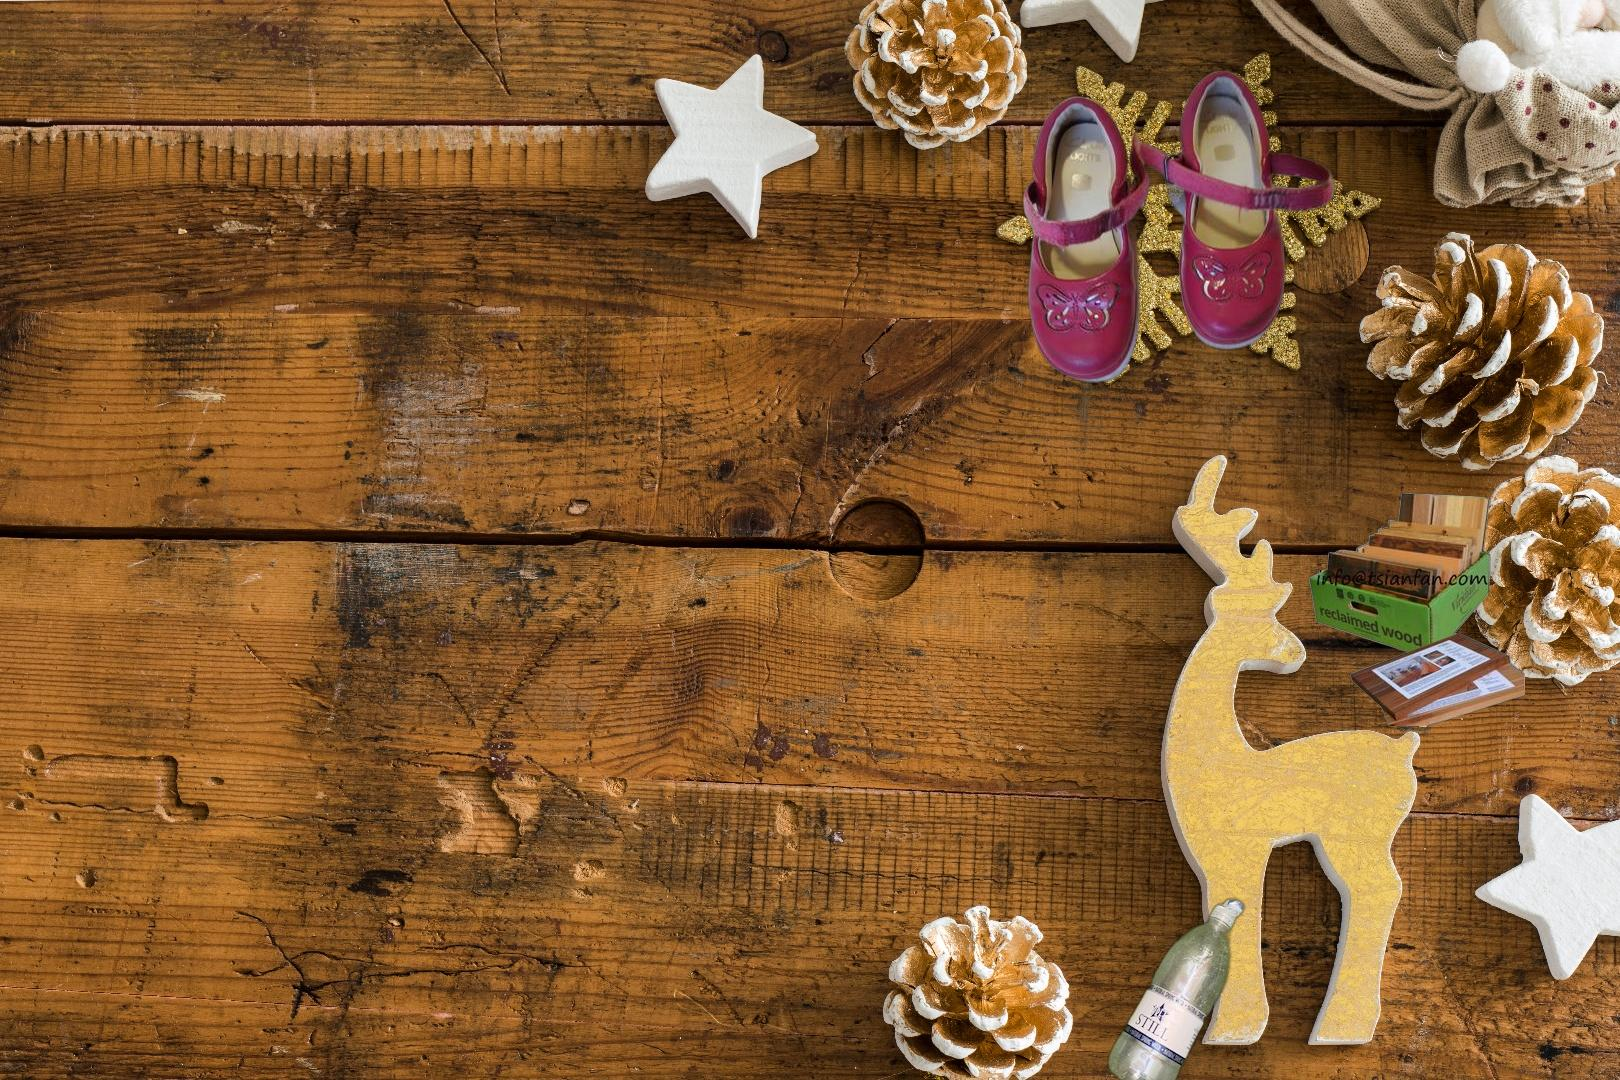plastic-bottles: (1103, 892, 1249, 1080)
shoes: (1019, 66, 1338, 387)
trashbox-cardboard: (1305, 491, 1525, 726)
